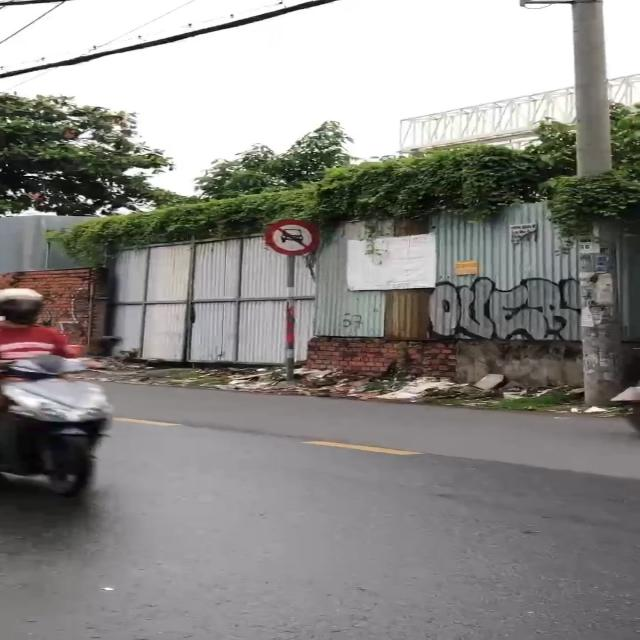Bien bao cam xe oto: (261, 217, 325, 255)
